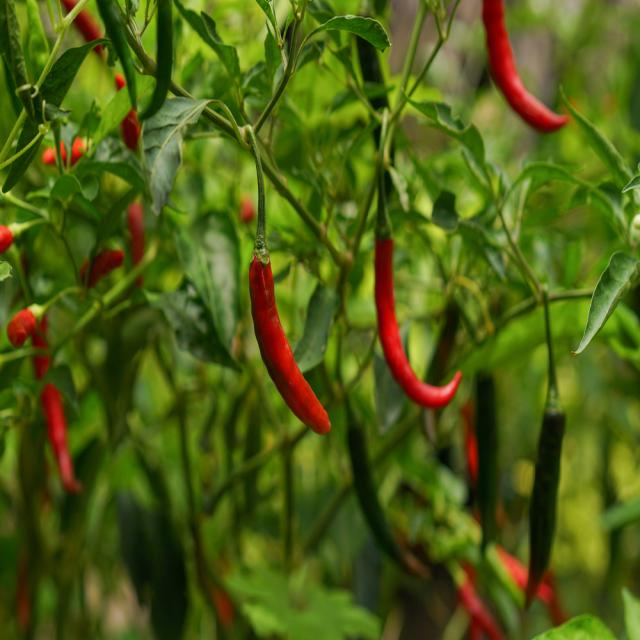Ripe: (375, 238, 461, 408), (249, 255, 330, 435), (482, 0, 568, 131)
Unripe: (347, 399, 430, 576), (526, 290, 565, 604), (476, 375, 498, 548)
